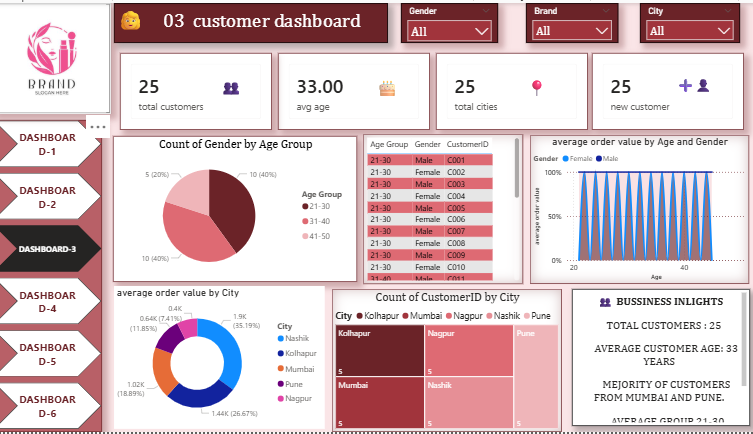

The dashboard page shown, as its layout file describes it:
{"tool":"powerbi","page":{"name":"DASHBOARD-3","canvas":[1280,720],"ordinal":2},"visuals":[{"type":"textbox","box":[203.3,0,460.3,67.2],"z":0},{"type":"cardVisual","fields":{"Data":["Customers.avg age"]},"box":[478.7,84,255.3,129.3],"z":1000},{"type":"cardVisual","fields":{"Data":["Customers.total customers"]},"box":[213.3,84,255.3,129.3],"z":2000},{"type":"cardVisual","fields":{"Data":["Customers.total cities"]},"box":[744.1,84,255.3,129.3],"z":3000},{"type":"cardVisual","fields":{"Data":["Customers.new customer"]},"box":[1006.2,84,255.3,129.3],"z":4000},{"type":"pieChart","fields":{"Y":["CountNonNull(Customers.Gender)"],"Category":["Customers.Age Group"]},"box":[201.6,223.4,409.9,245.2],"z":5000},{"type":"donutChart","fields":{"Category":["Customers.City","Customers.CustomerID"],"Y":["Customers.average order value"]},"box":[203.3,475.4,354.4,240.2],"z":6000},{"type":"treemap","fields":{"Group":["Customers.City"],"Values":["CountNonNull(Customers.CustomerID)"]},"box":[569.4,480.4,386.4,240.2],"z":7000},{"type":"tableEx","fields":{"Values":["Customers.Age Group","Customers.Gender","Sales.CustomerID"]},"box":[621.5,220.1,268.8,252],"z":8000},{"type":"slicer","fields":{"Values":["Products.Brand"]},"box":[895.3,0,154.5,67.2],"z":9000},{"type":"slicer","fields":{"Values":["Customers.City"]},"box":[1086.8,0,168,67.2],"z":10000},{"type":"slicer","fields":{"Values":["Customers.Gender"]},"box":[685.4,0,162.9,67.2],"z":11000},{"type":"pageNavigator","box":[0,196.5,183.1,524.1],"z":12000},{"type":"textbox","box":[972.6,480.4,299,230.1],"z":13000},{"type":"image","box":[0,0,198.2,186.5],"z":14000},{"type":"textbox","box":[372.9,115.9,55.4,53.8],"z":15000},{"type":"textbox","box":[619.8,119.3,85.7,55.4],"z":16000},{"type":"textbox","box":[890.3,119.3,47,48.7],"z":17000},{"type":"textbox","box":[1143.9,117.6,68.9,45.4],"z":18000},{"type":"hundredPercentStackedAreaChart","fields":{"Category":["Customers.Age"],"Y":["Customers.average order value"],"Series":["Customers.Gender"]},"box":[902,221.7,367.9,250.3],"z":19000}]}

Visuals, with their boxes on the page's 1280x720 design canvas (x1, y1, x2, y2). These are canvas units, not pixel positions in the 753x434 screenshot, which may show the page scaled, cropped or inside an application window:
textbox: {"left": 203, "top": 0, "right": 664, "bottom": 67}
cardVisual - Customers.avg age: {"left": 479, "top": 84, "right": 734, "bottom": 213}
cardVisual - Customers.total customers: {"left": 213, "top": 84, "right": 469, "bottom": 213}
cardVisual - Customers.total cities: {"left": 744, "top": 84, "right": 999, "bottom": 213}
cardVisual - Customers.new customer: {"left": 1006, "top": 84, "right": 1262, "bottom": 213}
pieChart - CountNonNull(Customers.Gender) x Customers.Age Group: {"left": 202, "top": 223, "right": 612, "bottom": 469}
donutChart - Customers.City x Customers.CustomerID: {"left": 203, "top": 475, "right": 558, "bottom": 716}
treemap - Customers.City x CountNonNull(Customers.CustomerID): {"left": 569, "top": 480, "right": 956, "bottom": 721}
tableEx - Customers.Age Group x Customers.Gender: {"left": 622, "top": 220, "right": 890, "bottom": 472}
slicer - Products.Brand: {"left": 895, "top": 0, "right": 1050, "bottom": 67}
slicer - Customers.City: {"left": 1087, "top": 0, "right": 1255, "bottom": 67}
slicer - Customers.Gender: {"left": 685, "top": 0, "right": 848, "bottom": 67}
pageNavigator: {"left": 0, "top": 196, "right": 183, "bottom": 721}
textbox: {"left": 973, "top": 480, "right": 1272, "bottom": 710}
image: {"left": 0, "top": 0, "right": 198, "bottom": 186}
textbox: {"left": 373, "top": 116, "right": 428, "bottom": 170}
textbox: {"left": 620, "top": 119, "right": 706, "bottom": 175}
textbox: {"left": 890, "top": 119, "right": 937, "bottom": 168}
textbox: {"left": 1144, "top": 118, "right": 1213, "bottom": 163}
hundredPercentStackedAreaChart - Customers.Age x Customers.average order value: {"left": 902, "top": 222, "right": 1270, "bottom": 472}
